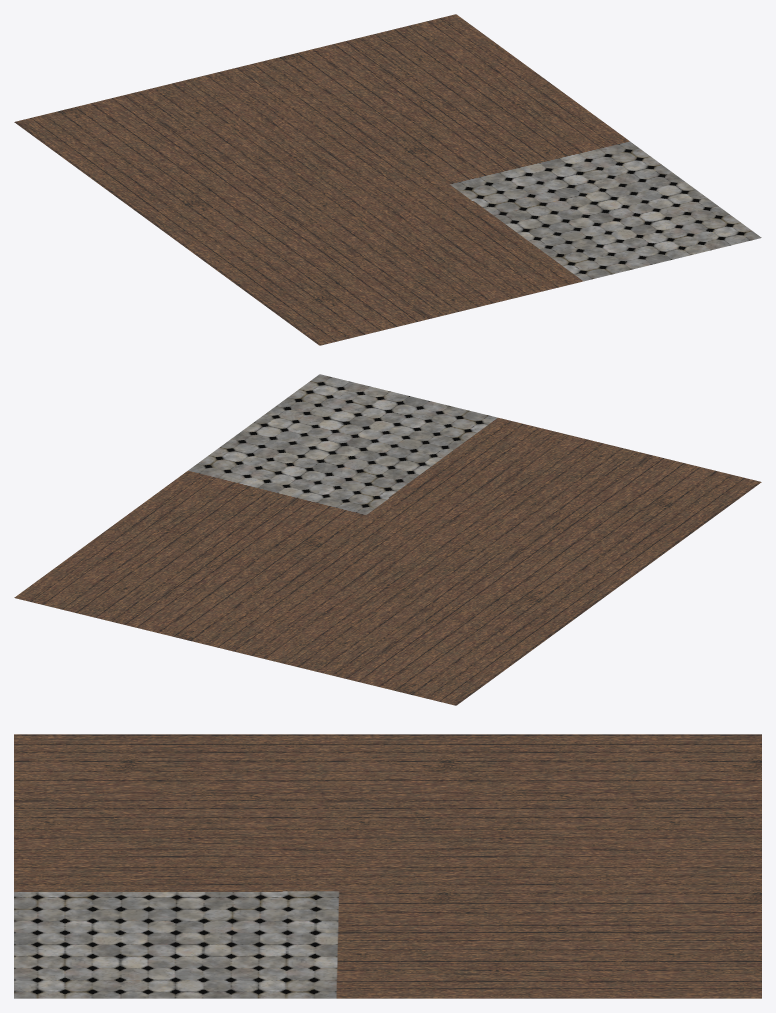
The model's file is Ground neighbor's house.fbx.
The picture shows the model from 3 angles, top to bottom: view 1: azimuth 30°, elevation 25°; view 2: azimuth 150°, elevation 25°; view 3: azimuth 270°, elevation 25°; orthographic projection. The views are drawn at different scales.
Parts seen in each view (by area): view 1: Chao; view 2: Chao; view 3: Chao.
Part boxes in pixels (x1,y1,x2,y2): Chao: (14, 14, 761, 345); Chao: (14, 374, 761, 705); Chao: (14, 734, 761, 998).
Bounding box in the file's own units: 1499 × 0 × 1795.
